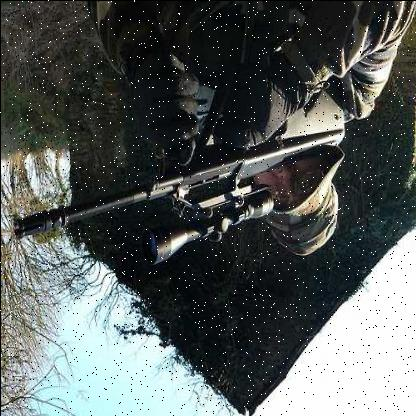rifle: (2, 48, 359, 293)
